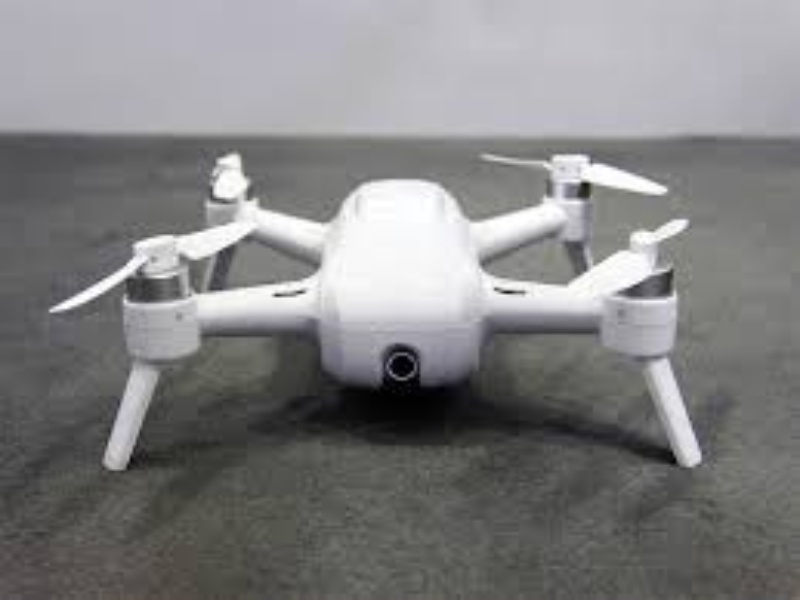drone: (78, 151, 724, 480)
